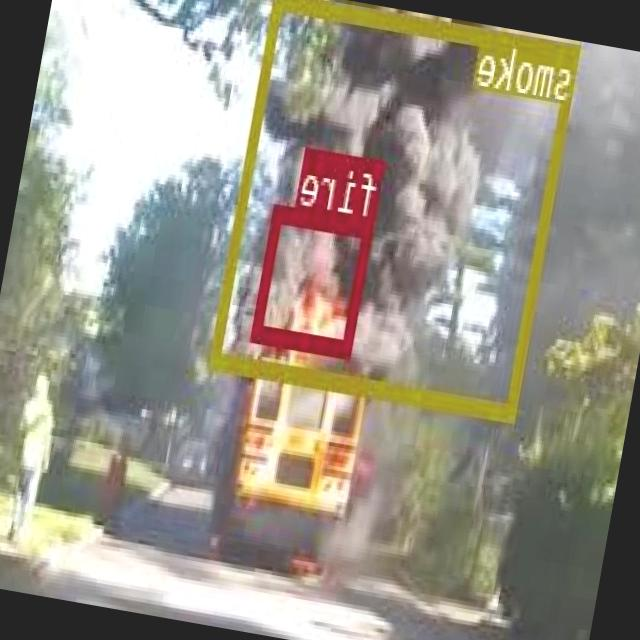fire: (253, 202, 377, 356)
smoke: (212, 0, 582, 416)
